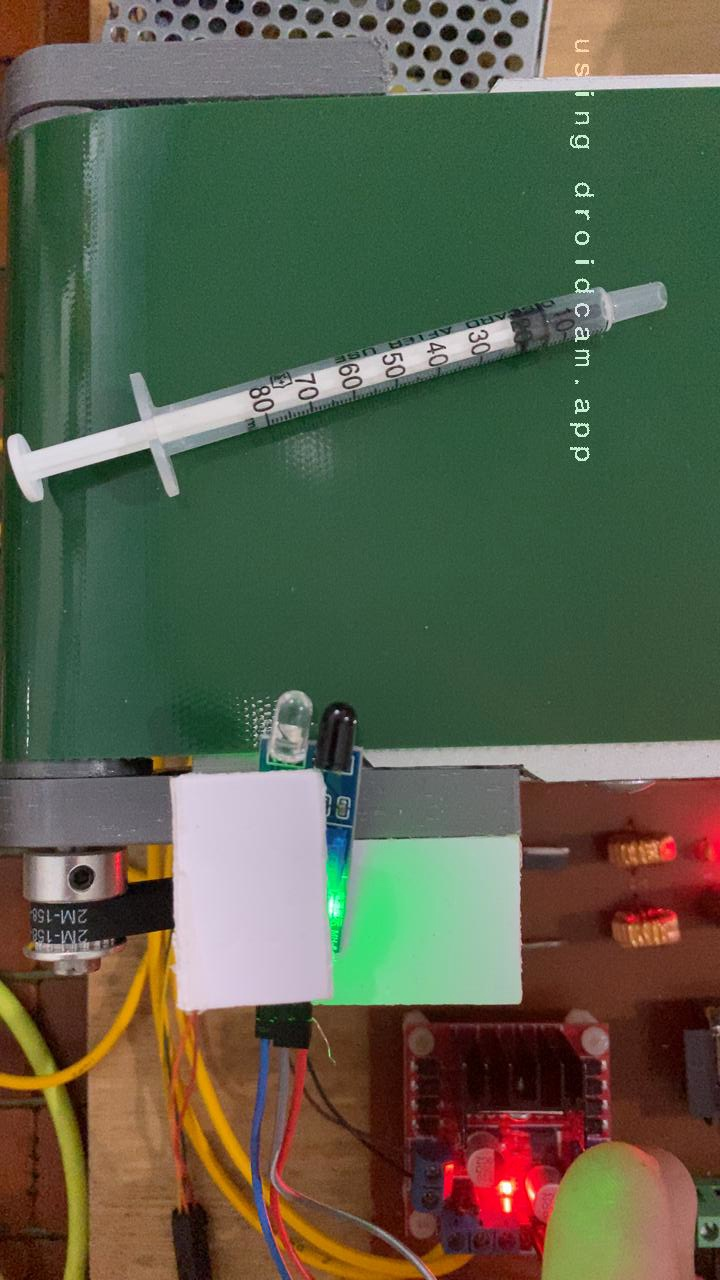syringe: (0, 94, 674, 511)
